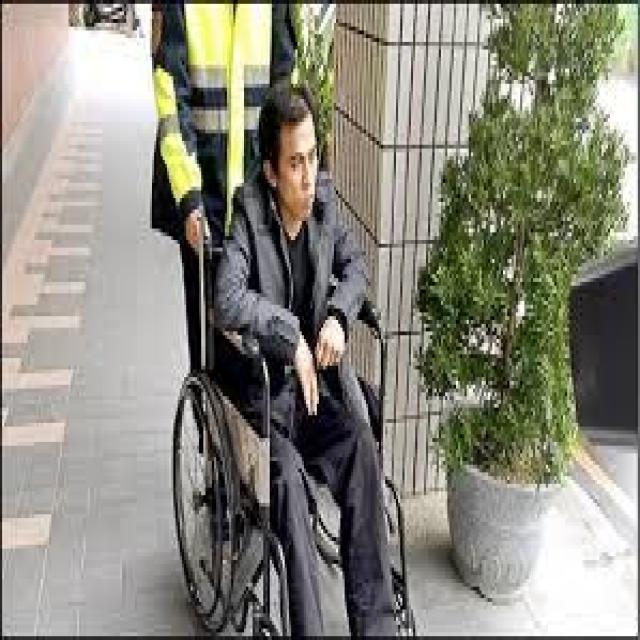wheelchairs: (167, 210, 422, 636)
